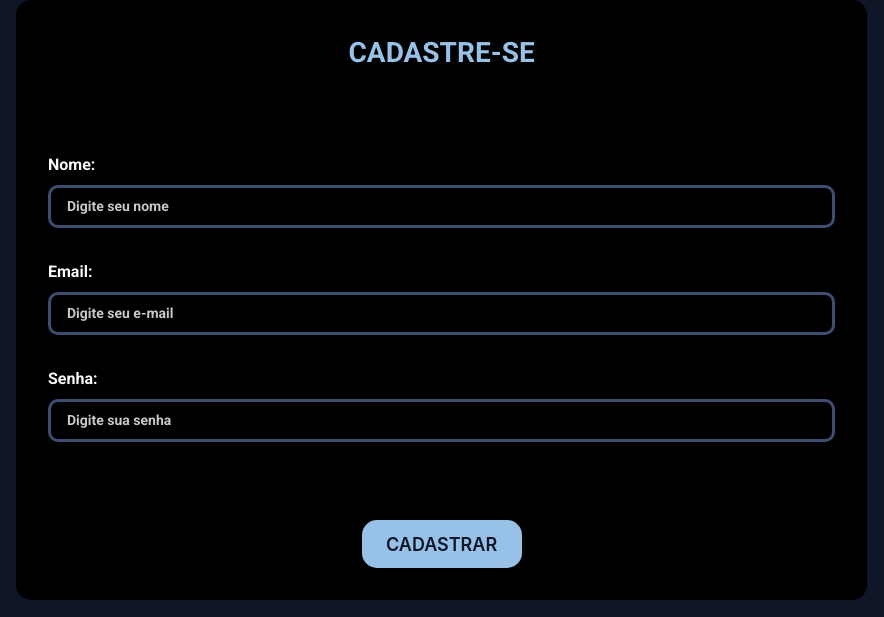
Test: Register Component › should display error message for invalid name
In the field labelled "Nome:": (442, 206) [48,184,835,228], type "a"
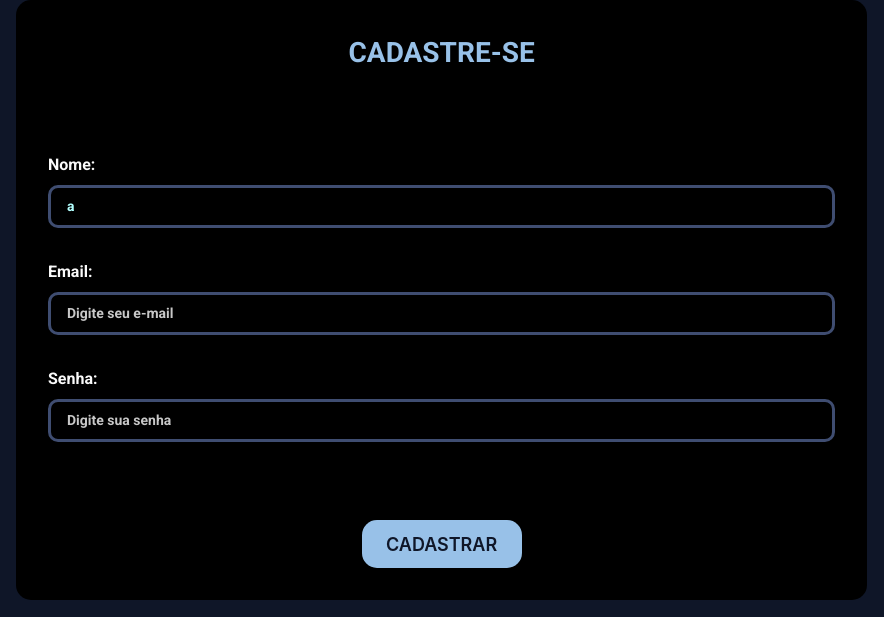
In the field labelled "Email:": (442, 313) [48,292,835,334], type "test@example.com"
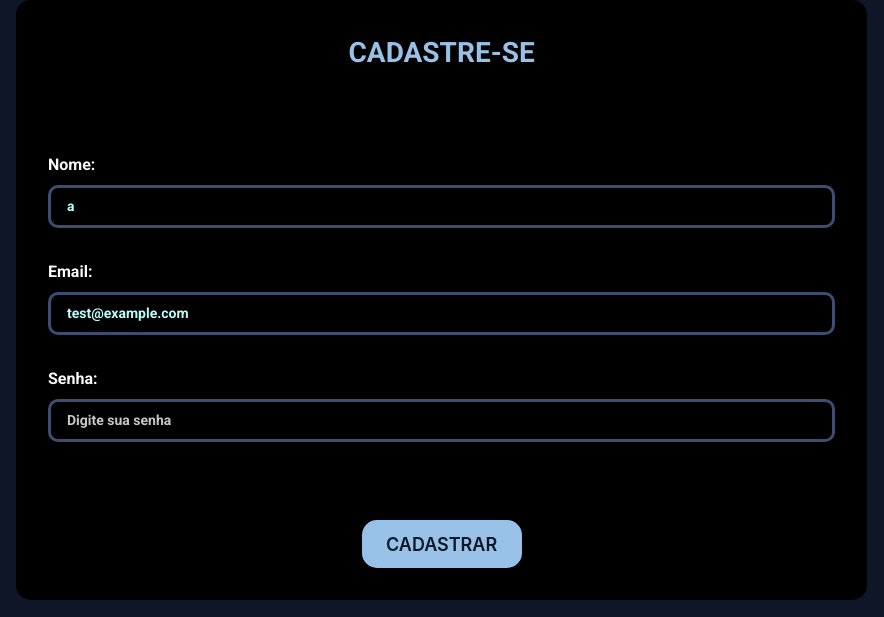
In the password field labelled "Senha:": (442, 420) [48,398,835,442], type "Password1"
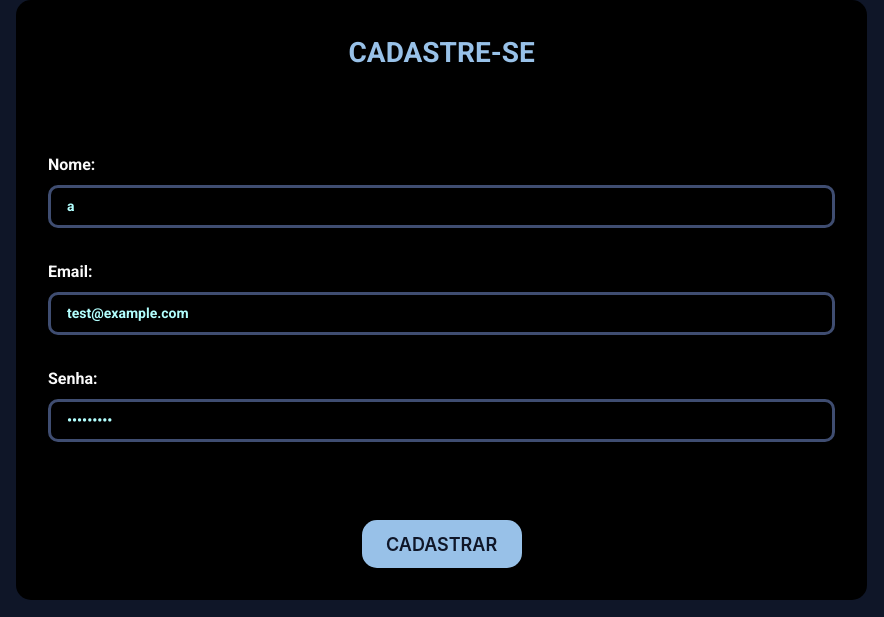
Click the button "CADASTRAR": (442, 544) [362,520,522,568]
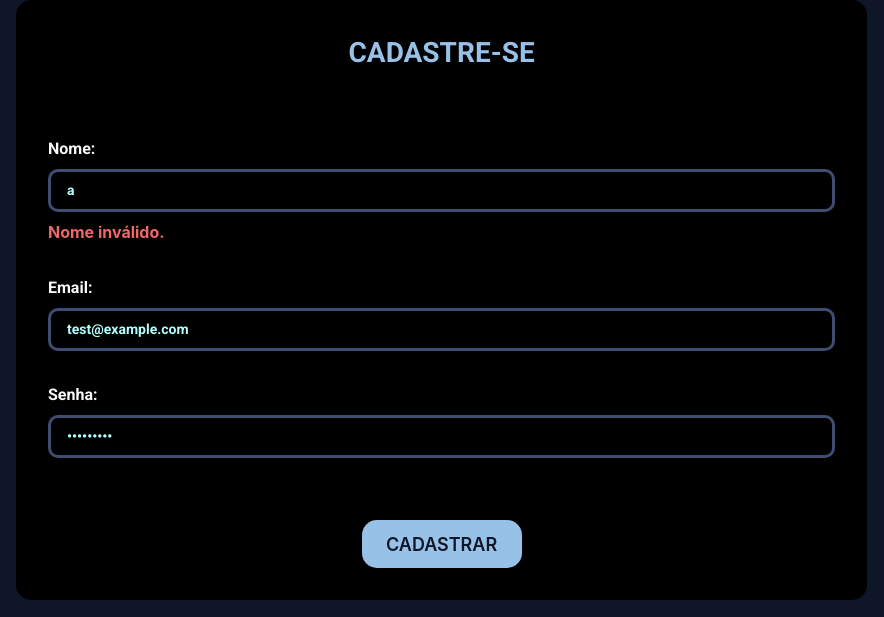
expect the text "Nome inválido." is shown: met, box [48,222,165,242]
